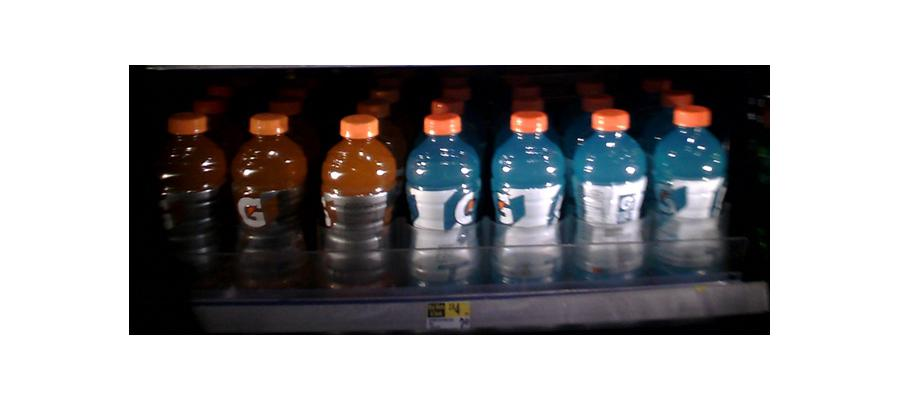bottle: (318, 113, 396, 297), (491, 106, 568, 292), (406, 111, 482, 296), (570, 111, 647, 289), (234, 111, 305, 297), (652, 107, 725, 283), (154, 115, 225, 294)
